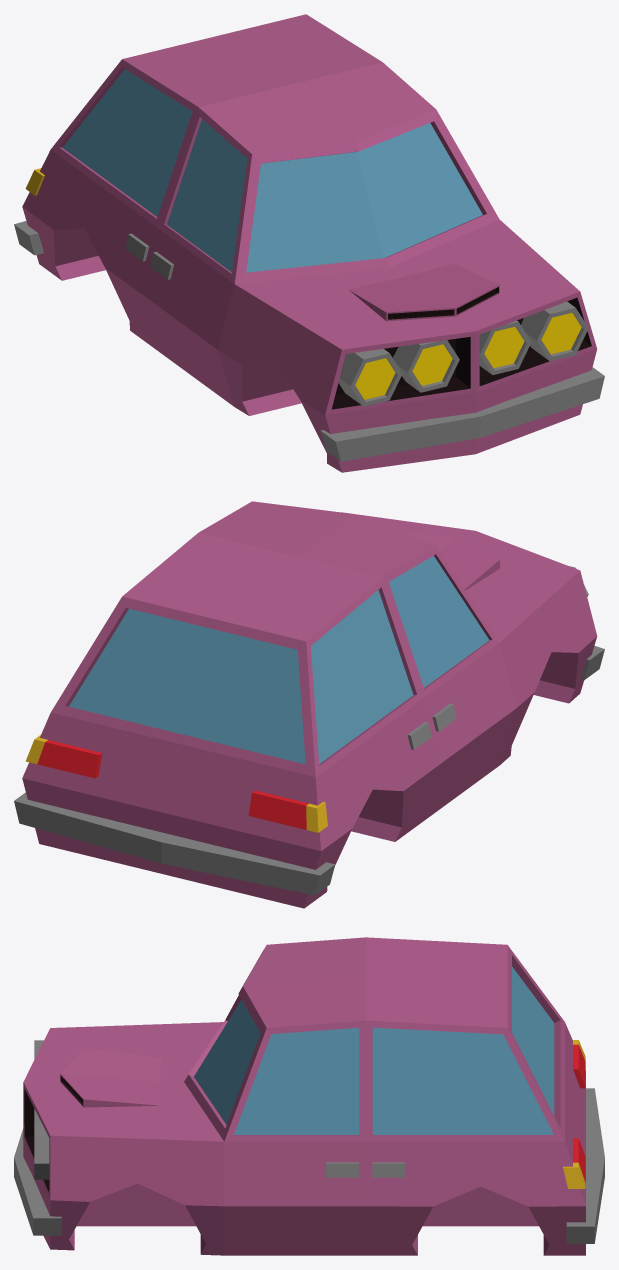
The model's file is LowPaulCar4.fbx.
3 views of the same model, one above another, from view 1: azimuth 30°, elevation 25°; view 2: azimuth 150°, elevation 25°; view 3: azimuth 270°, elevation 25° (orthographic). The views are drawn at different scales.
Visible parts, largest first — view 1: Cube.003; view 2: Cube.003; view 3: Cube.003.
Part boxes in pixels (<box>): Cube.003: <box>14,14,604,472</box>; Cube.003: <box>14,501,604,908</box>; Cube.003: <box>14,937,604,1255</box>.
Bounding box in the file's own units: 163 × 119 × 294.
